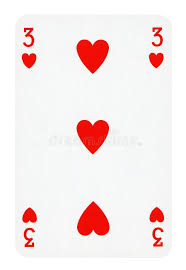three of hearts: (16, 16, 173, 257)
